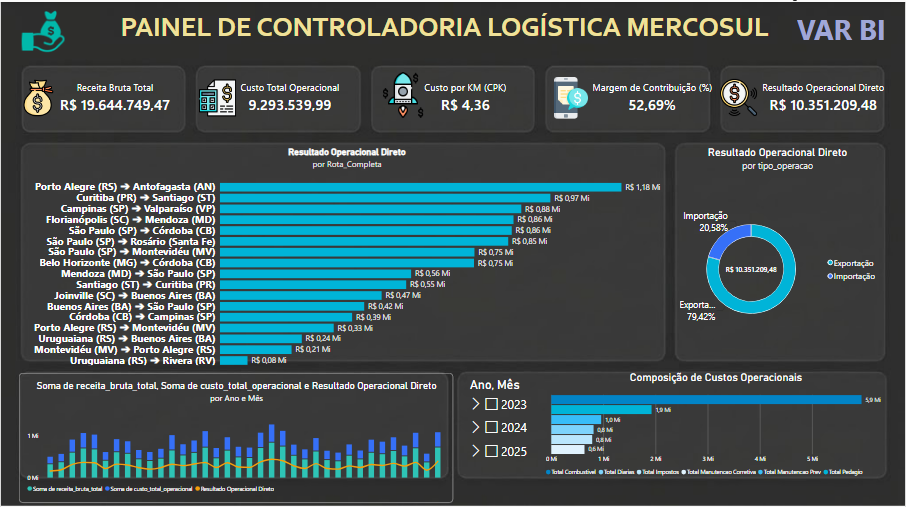

Layout of this report page (visuals, bound fields, positions):
{"tool":"powerbi","page":{"name":"Página 1","canvas":[1920,1080],"ordinal":0},"visuals":[{"type":"textbox","box":[89.3,17,1707.2,91.4],"z":0},{"type":"image","box":[0,17,178.6,91.4],"z":1000},{"type":"textbox","box":[1692.3,17,206.2,121.2],"z":2000},{"type":"cardVisual","fields":{"Data":["public fato_viagens.Receita Bruta Total"]},"box":[106.3,138.2,272.1,129.7],"z":3000},{"type":"cardVisual","fields":{"Data":["public fato_viagens.Custo Total Operacional"]},"box":[450.7,129.7,327.4,146.7],"z":4000},{"type":"cardVisual","fields":{"Data":["public fato_viagens.Custo por KM (CPK)"]},"box":[803.6,129.7,367.8,146.7],"z":5000},{"type":"cardVisual","fields":{"Data":["public fato_viagens.Margem de Contribuição (%)"]},"box":[1201.2,129.7,367.8,146.7],"z":6000},{"type":"cardVisual","fields":{"Data":["public fato_viagens.Resultado Operacional Direto"]},"box":[1598.7,138.2,299.8,129.7],"z":7000},{"type":"clusteredBarChart","fields":{"Category":["public dim_rota.Rota_Completa"],"Y":["public fato_viagens.Resultado Operacional Direto"]},"box":[53.1,293.4,1364.9,495.4],"z":8000},{"type":"donutChart","fields":{"Category":["public dim_rota.tipo_operacao"],"Y":["public fato_viagens.Resultado Operacional Direto"]},"box":[1418,293.4,465.6,478.3],"z":9000},{"type":"lineStackedColumnComboChart","fields":{"Category":["public fato_viagens.data_saida.Variação.Hierarquia de datas.Ano","public fato_viagens.data_saida.Variação.Hierarquia de datas.Mês"],"Y":["Sum(public fato_viagens.receita_bruta_total)","Sum(public fato_viagens.custo_total_operacional)"],"Y2":["public fato_viagens.Resultado Operacional Direto"]},"box":[38.3,788.7,922.7,276.4],"z":10000},{"type":"slicer","fields":{"Values":["public fato_viagens.data_saida.Variação.Hierarquia de datas.Ano","public fato_viagens.data_saida.Variação.Hierarquia de datas.Mês"]},"box":[988.6,797.2,223.2,208.3],"z":11000},{"type":"clusteredBarChart","title":"Composição de Custos Operacionais","fields":{"Y":["public fato_viagens.Total Combustivel","public fato_viagens.Total Diarias","public fato_viagens.Total Impostos","public fato_viagens.Total Manutencao Corretiva","public fato_viagens.Total Manutencao Prev","public fato_viagens.Total Pedagio"]},"box":[1141.7,771.7,756.9,257.2],"z":12000},{"type":"image","box":[1528.6,159.4,78.7,87.2],"z":12001},{"type":"image","box":[1162.9,159.4,95.7,89.3],"z":12002},{"type":"image","box":[803.6,148.8,102,97.8],"z":12003},{"type":"image","box":[420.9,159.4,78.7,89.3],"z":12004},{"type":"image","box":[38.3,133.9,78.7,140.3],"z":12005}]}

Visuals, with their boxes in screenshot pixels (x1, y1, x2, y2), scaled from the page's 1920x1080 canvas onto the 906x507 screenshot:
textbox: 42/8/848/51
image: 0/8/84/51
textbox: 799/8/896/65
cardVisual - public fato_viagens.Receita Bruta Total: 50/65/179/126
cardVisual - public fato_viagens.Custo Total Operacional: 213/61/367/130
cardVisual - public fato_viagens.Custo por KM (CPK): 379/61/553/130
cardVisual - public fato_viagens.Margem de Contribuição (%): 567/61/740/130
cardVisual - public fato_viagens.Resultado Operacional Direto: 754/65/896/126
clusteredBarChart - public dim_rota.Rota_Completa x public fato_viagens.Resultado Operacional Direto: 25/138/669/370
donutChart - public dim_rota.tipo_operacao x public fato_viagens.Resultado Operacional Direto: 669/138/889/362
lineStackedColumnComboChart - public fato_viagens.data_saida.Variação.Hierarquia de datas.Ano x public fato_viagens.data_saida.Variação.Hierarquia de datas.Mês: 18/370/453/500
slicer - public fato_viagens.data_saida.Variação.Hierarquia de datas.Ano x public fato_viagens.data_saida.Variação.Hierarquia de datas.Mês: 466/374/572/472
"Composição de Custos Operacionais" clusteredBarChart: 539/362/896/483
image: 721/75/758/116
image: 549/75/594/117
image: 379/70/427/116
image: 199/75/236/117
image: 18/63/55/129
